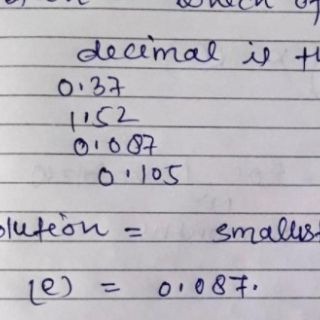.: (82, 110, 91, 124), (91, 138, 100, 150), (76, 80, 85, 90), (177, 280, 184, 292), (125, 167, 131, 179)
0: (97, 164, 116, 187), (55, 77, 74, 97), (71, 136, 90, 156), (155, 279, 172, 298), (107, 136, 122, 154), (193, 277, 206, 295), (151, 162, 162, 181)
1: (67, 109, 77, 132), (139, 162, 147, 182)
2: (114, 103, 141, 124)
3: (89, 72, 106, 97)
5: (163, 162, 184, 186), (95, 105, 113, 129)
7: (227, 273, 249, 298), (106, 73, 125, 96), (142, 130, 158, 155)
8: (211, 272, 226, 296)
